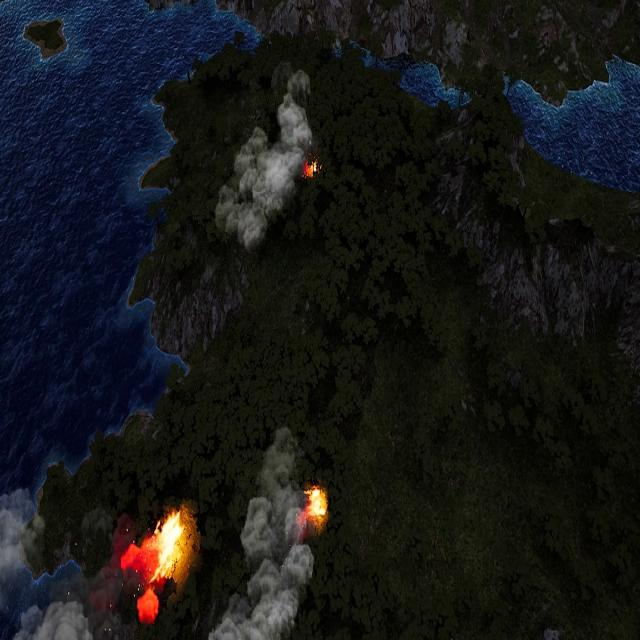fire: (120, 510, 184, 620), (301, 486, 328, 529), (304, 160, 319, 182)
smoke: (178, 422, 323, 636), (0, 486, 163, 640), (212, 66, 315, 252)
